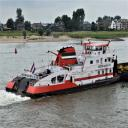tugboat: (5, 38, 124, 102)
